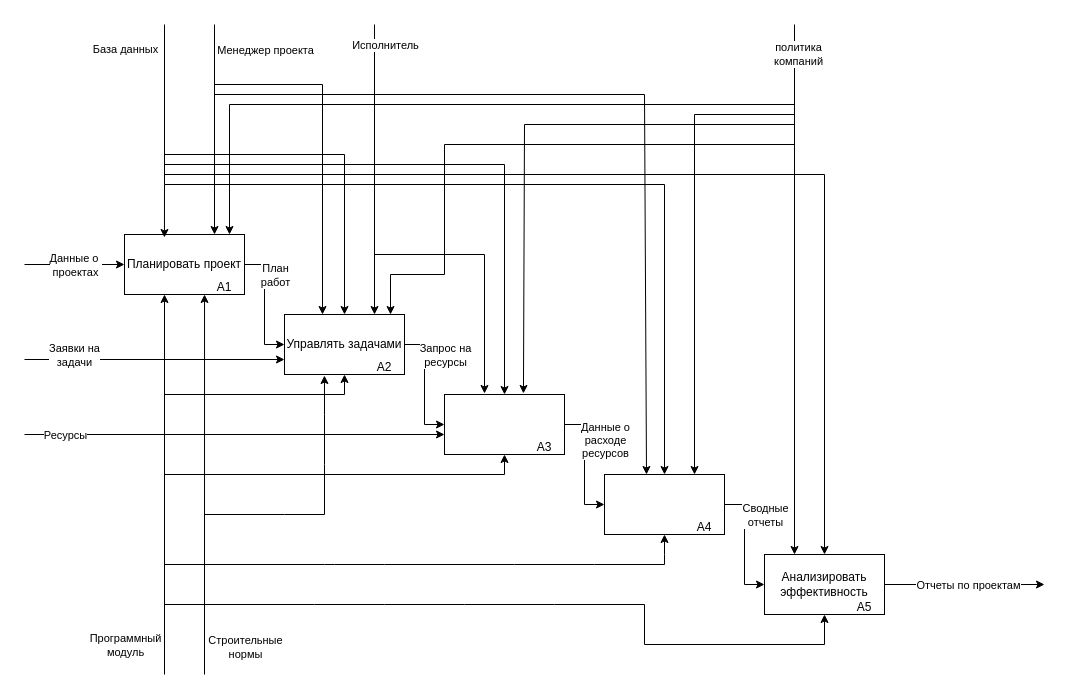
Image size: 1070x700. Some labels were removed from this diagram. Here are the shapes that lost their labels. From the top down, the box of each, then its label:
(444, 394, 564, 454): Контролировать ресурсы
(604, 474, 724, 534): Формировать отчетность
